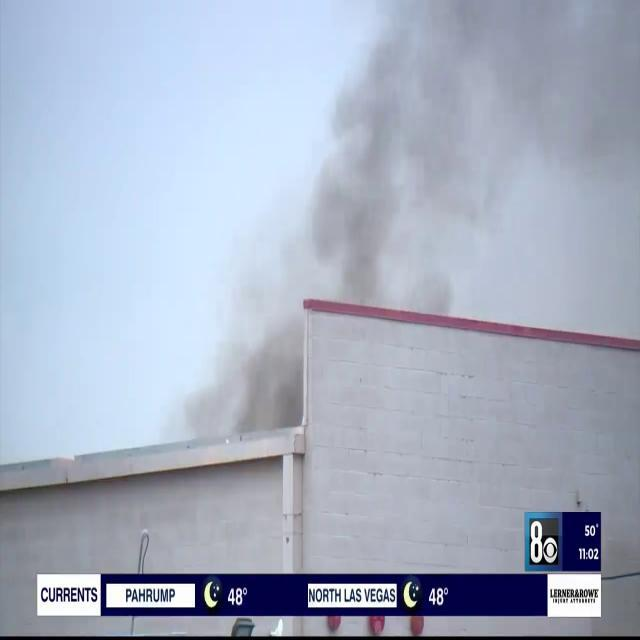Smoke: (239, 0, 639, 317)
